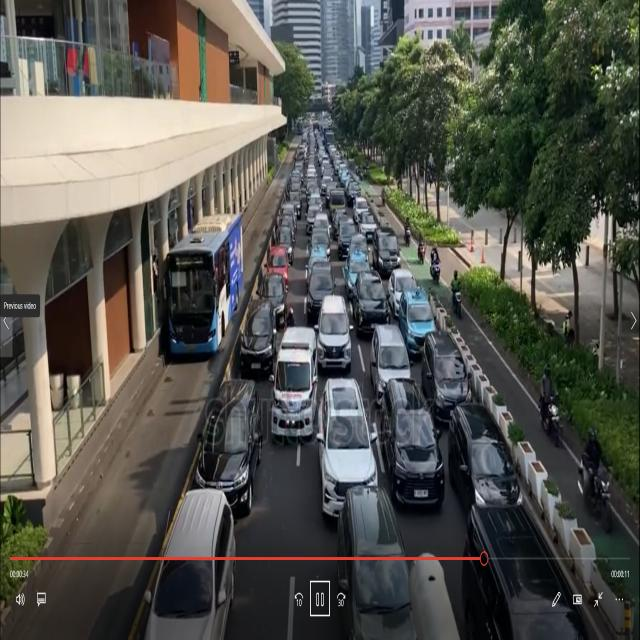Ambulance: (269, 329, 323, 444)
